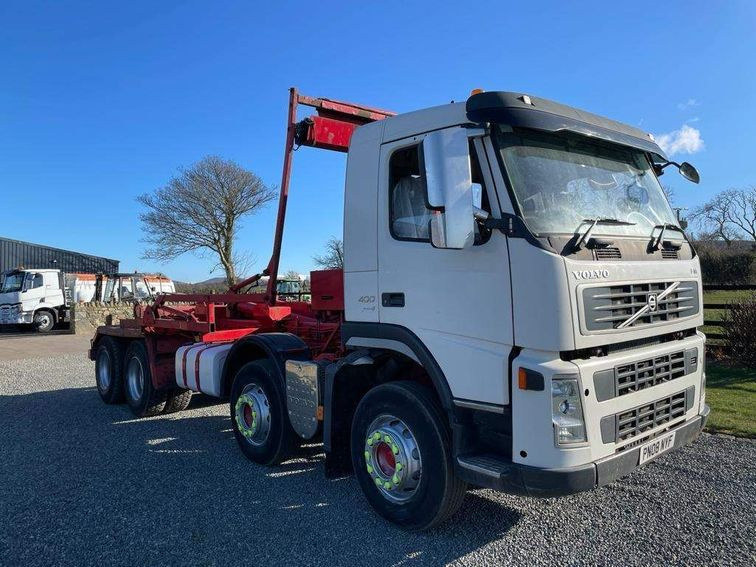Semi: (87, 87, 709, 532), (0, 267, 176, 334)
